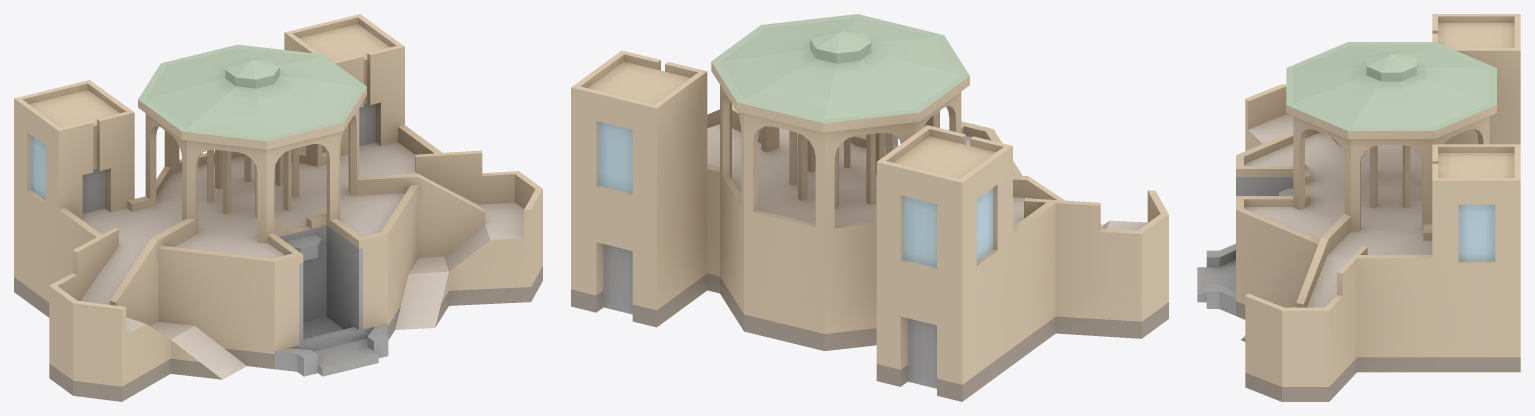
The model's file is momra3.glb.
3 views of the same model, side by side, from view 1: azimuth 30°, elevation 25°; view 2: azimuth 150°, elevation 25°; view 3: azimuth 270°, elevation 25° (orthographic). The views are drawn at different scales.
Visible parts, largest first — view 1: momra3; view 2: momra3; view 3: momra3.
Boxes of the visible parts, x1=… form: momra3: x1=14, y1=14, x2=542, y2=401; momra3: x1=571, y1=14, x2=1168, y2=401; momra3: x1=1197, y1=14, x2=1520, y2=401.
Bounding box in the file's own units: 16.23 × 7.84 × 9.8.
1 material, 1 textured.
